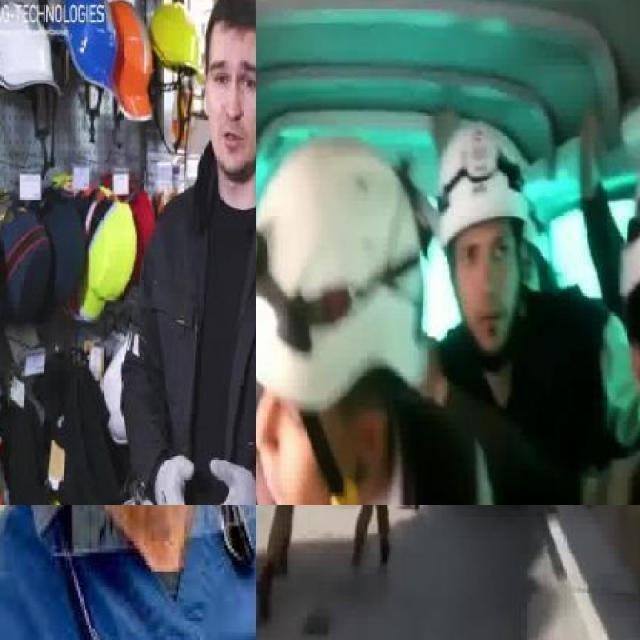apron: (187, 458, 256, 505), (155, 452, 195, 505)
